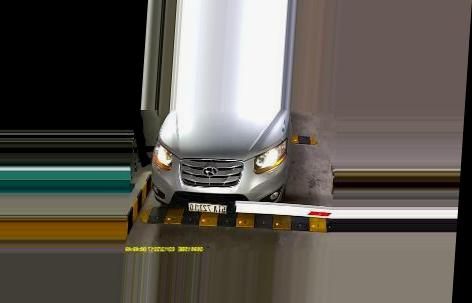License_Plate: (186, 198, 228, 215)
